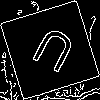U: (25, 25, 79, 83)
